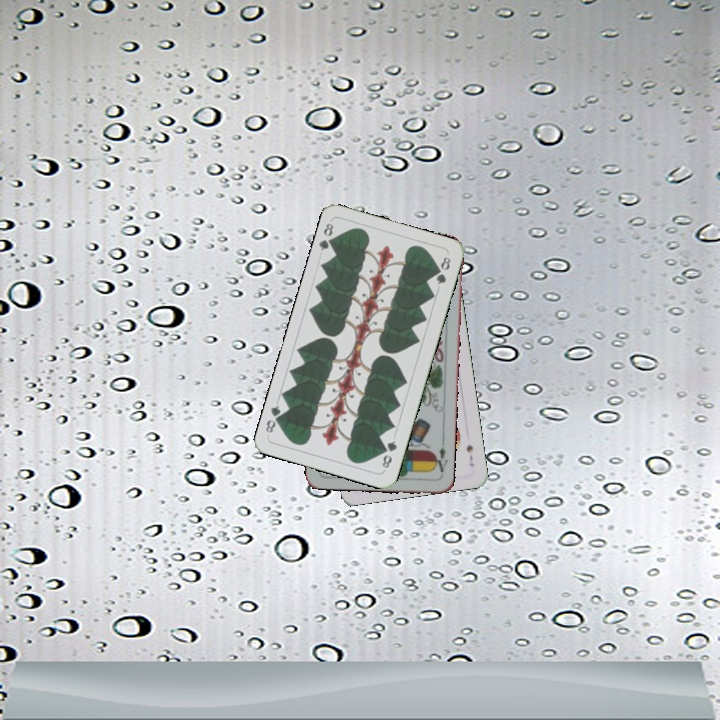EA: (430, 443, 450, 475)
G8: (315, 219, 339, 253), (378, 436, 400, 471)
S7: (462, 441, 477, 469)
